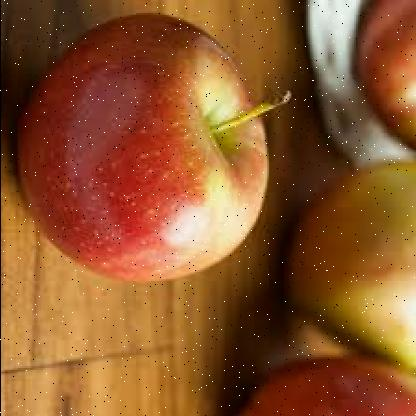apple: (15, 16, 266, 284), (284, 158, 414, 346)
